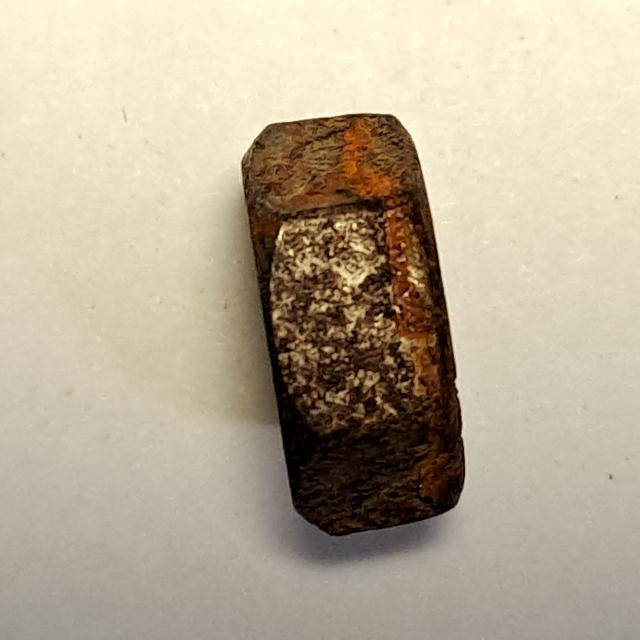Side_Rust: (230, 94, 491, 548)
